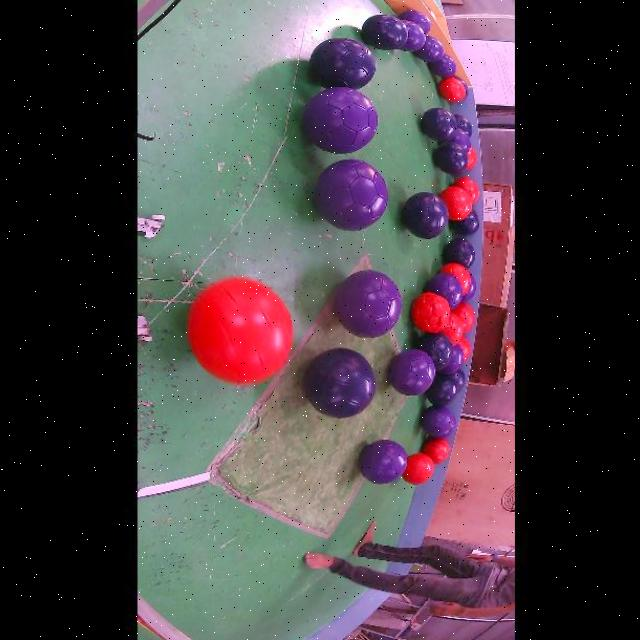B: (303, 347, 375, 418), (309, 38, 375, 89), (401, 192, 447, 239), (360, 14, 406, 51), (413, 333, 452, 371), (419, 107, 456, 141), (433, 141, 467, 175), (442, 238, 475, 268), (425, 375, 456, 406), (448, 209, 478, 236), (453, 115, 472, 137), (448, 369, 464, 393)
P: (315, 159, 387, 232), (302, 87, 376, 154), (334, 270, 401, 338), (388, 348, 434, 396), (358, 440, 406, 485), (423, 274, 461, 310), (419, 406, 452, 436), (398, 20, 425, 52), (412, 35, 443, 62), (397, 10, 430, 34), (438, 344, 463, 375), (427, 55, 456, 78), (429, 417, 456, 439), (450, 128, 471, 153), (461, 275, 476, 301), (454, 76, 468, 98)
R: (186, 278, 292, 385), (410, 292, 450, 333), (439, 186, 471, 221), (401, 453, 433, 485), (440, 263, 469, 295), (440, 312, 463, 346), (451, 302, 475, 333), (437, 77, 465, 103), (452, 177, 478, 204), (421, 439, 448, 464), (457, 337, 471, 363), (465, 146, 476, 170)
